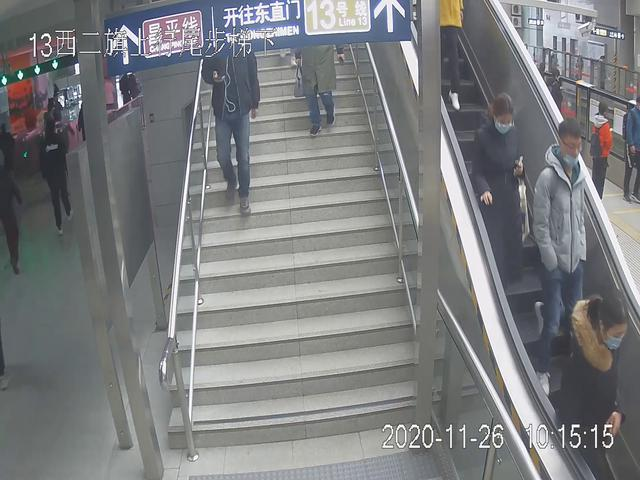person: (532, 112, 589, 401), (553, 286, 627, 480), (469, 90, 530, 306), (197, 42, 260, 221), (289, 37, 351, 138)
